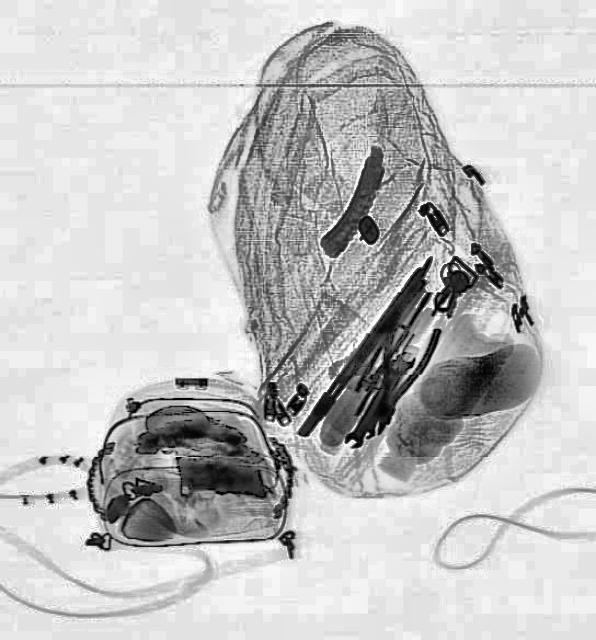Pliers: (352, 310, 442, 440)
Wrench: (338, 343, 419, 453)
